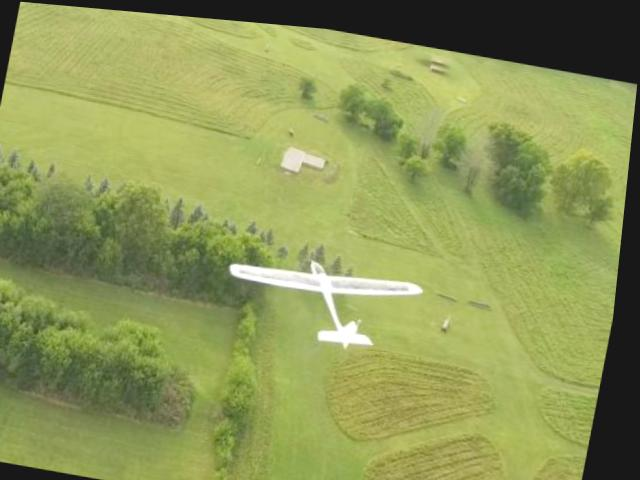uav: (214, 225, 441, 360)
